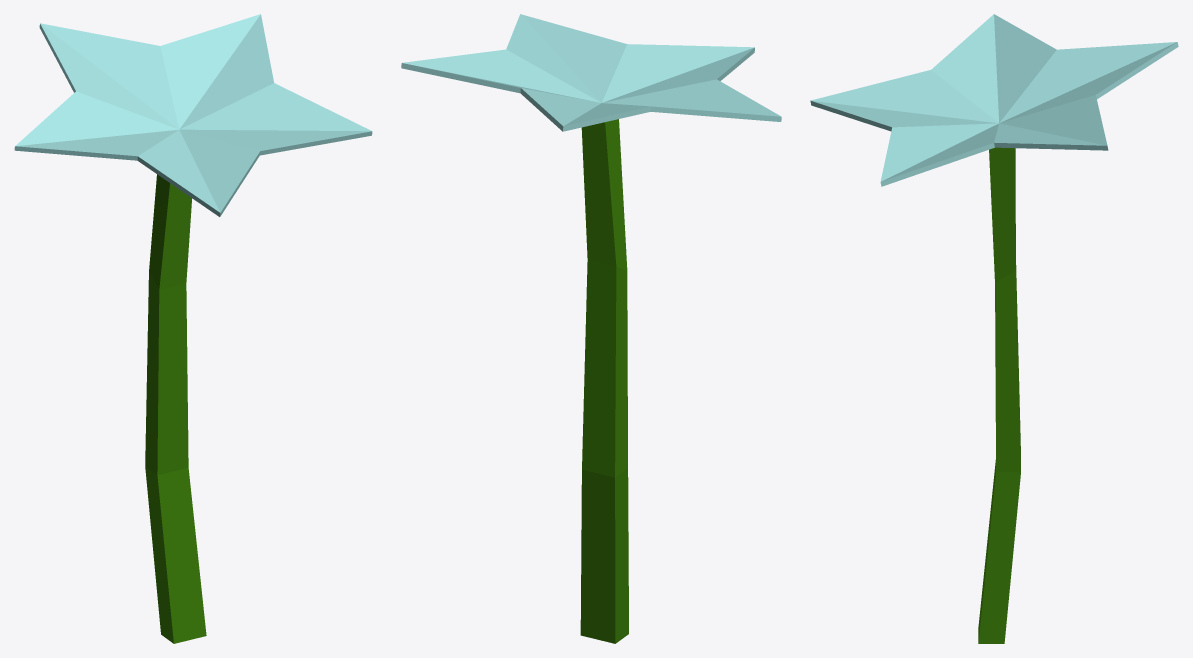
File: Flower_d_01.fbx
3 renders of one model, left to right at view 1: azimuth 30°, elevation 25°; view 2: azimuth 150°, elevation 25°; view 3: azimuth 270°, elevation 25°, orthographic. The views are drawn at different scales.
Parts seen in each view (by area): view 1: Flower_d_01_LOD0; view 2: Flower_d_01_LOD0; view 3: Flower_d_01_LOD0.
Boxes of the visible parts, bbox=[...] form: Flower_d_01_LOD0: bbox=[14, 14, 372, 643]; Flower_d_01_LOD0: bbox=[401, 14, 781, 643]; Flower_d_01_LOD0: bbox=[810, 14, 1178, 643].
Size of what is drawn, in the model's own units: 2.05 by 3.62 by 2.13.
